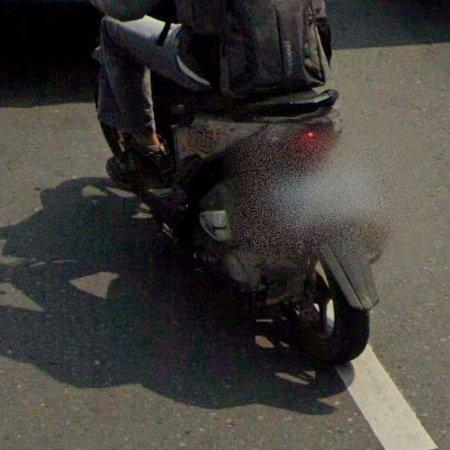motorcycles: (141, 75, 390, 366)
